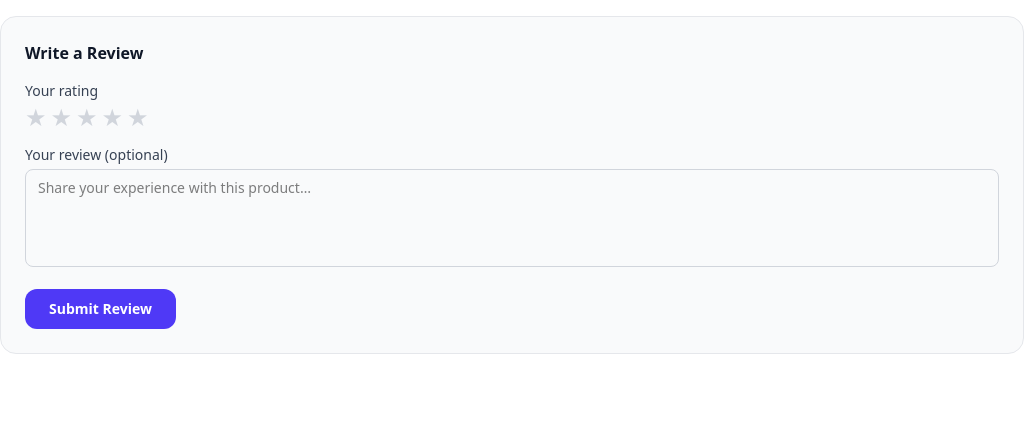
Test: WriteReviewForm › submits rating and comment, shows success, and refetches the list
Click the radio button named "5 stars" at (138,117), box [127,105,149,129]
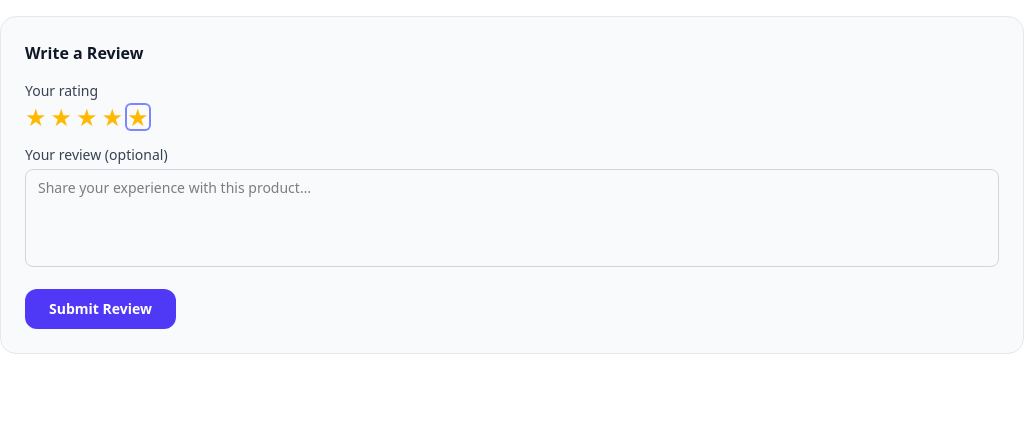
Type "Great!" into the text box labelled "Your review (optional)" at (512,218), box [25,169,999,267]
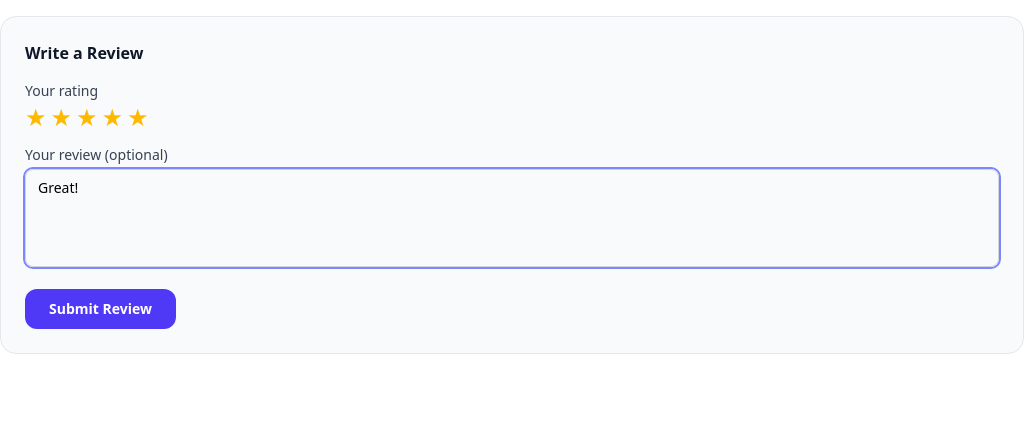
Click the button "Submit Review" at (100,309), box [25,289,176,329]
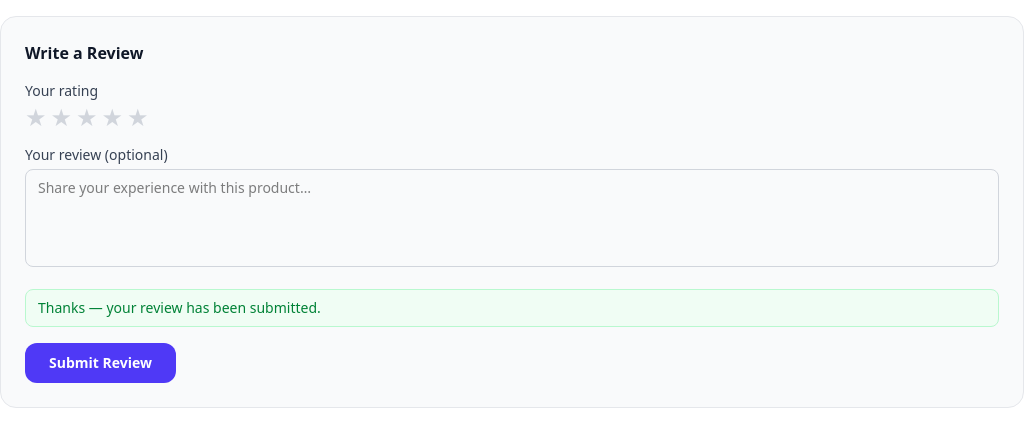
expect the text "Thanks — your review has been submitted." is shown: met, box [25,289,999,327]
